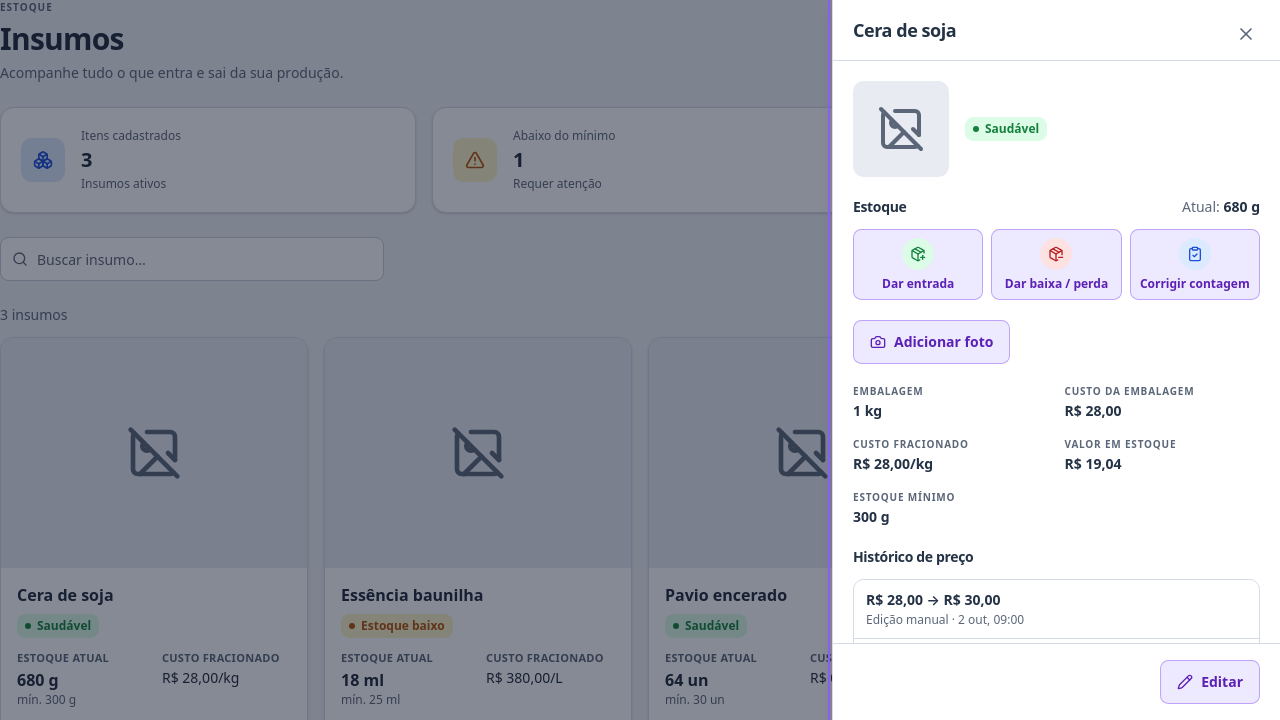
Test case: the three acts of the adjustment panel › marks the chosen one and changes the words and the fields with it
The image size is (1280, 720).
Click the button "Dar entrada" at (918, 264), box [853, 229, 983, 300]
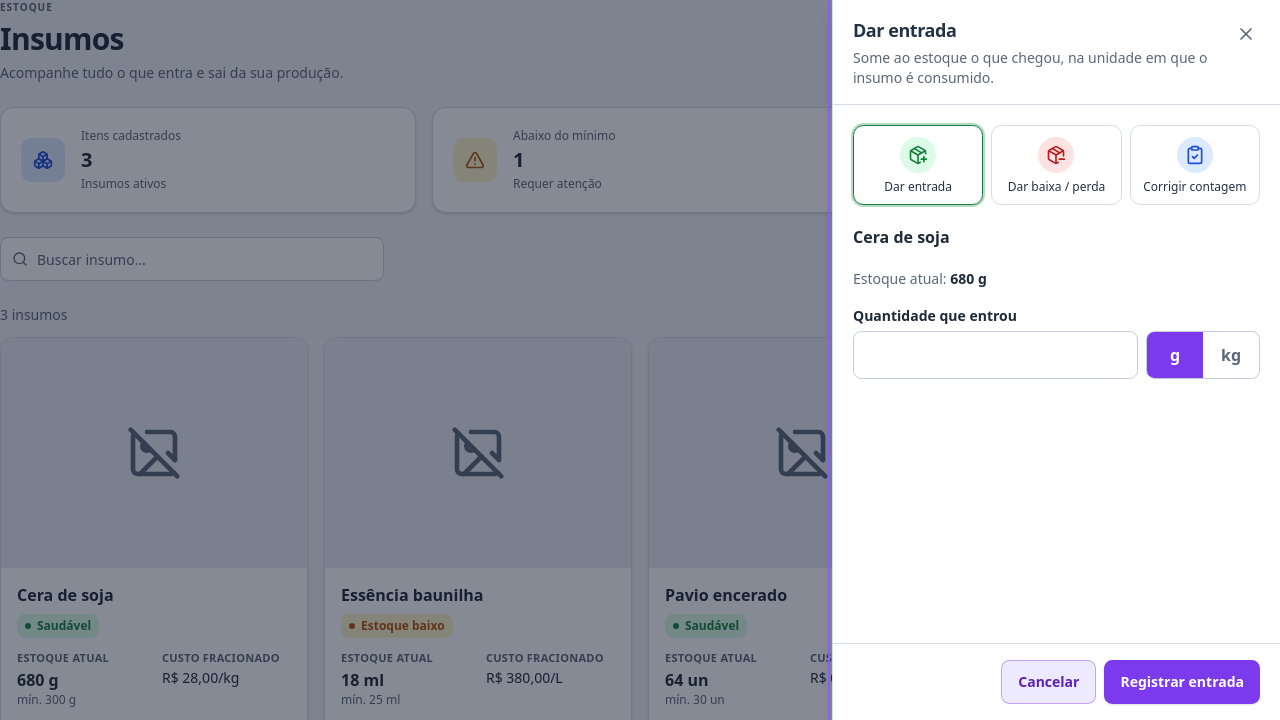
Expected: the field labelled "Motivo da baixa" is not shown
Expected: the radio button labelled "Dar entrada" is checked, [853, 125, 983, 205]
Expected: the field labelled "Quantidade que entrou" is shown, [853, 331, 1138, 379]
Click the radio button labelled "Dar baixa / perda" at (1056, 165), box [991, 125, 1122, 205]
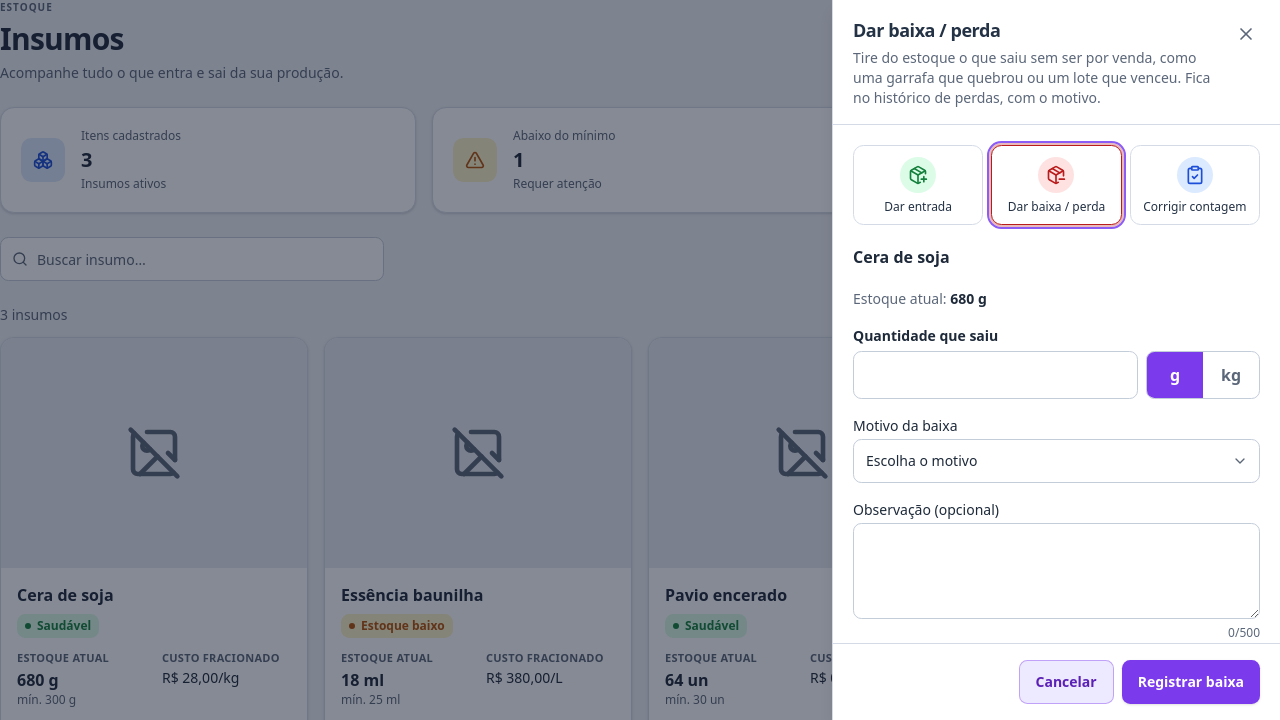
Expected: the radio button labelled "Dar baixa / perda" is checked, [991, 145, 1122, 225]
Expected: the field labelled "Quantidade que saiu" is shown, [853, 351, 1138, 399]
Expected: the radio button labelled "Dar entrada" is not checked, [853, 145, 983, 225]
Click the radio button labelled "Corrigir contagem" at (1195, 185), box [1130, 145, 1260, 225]
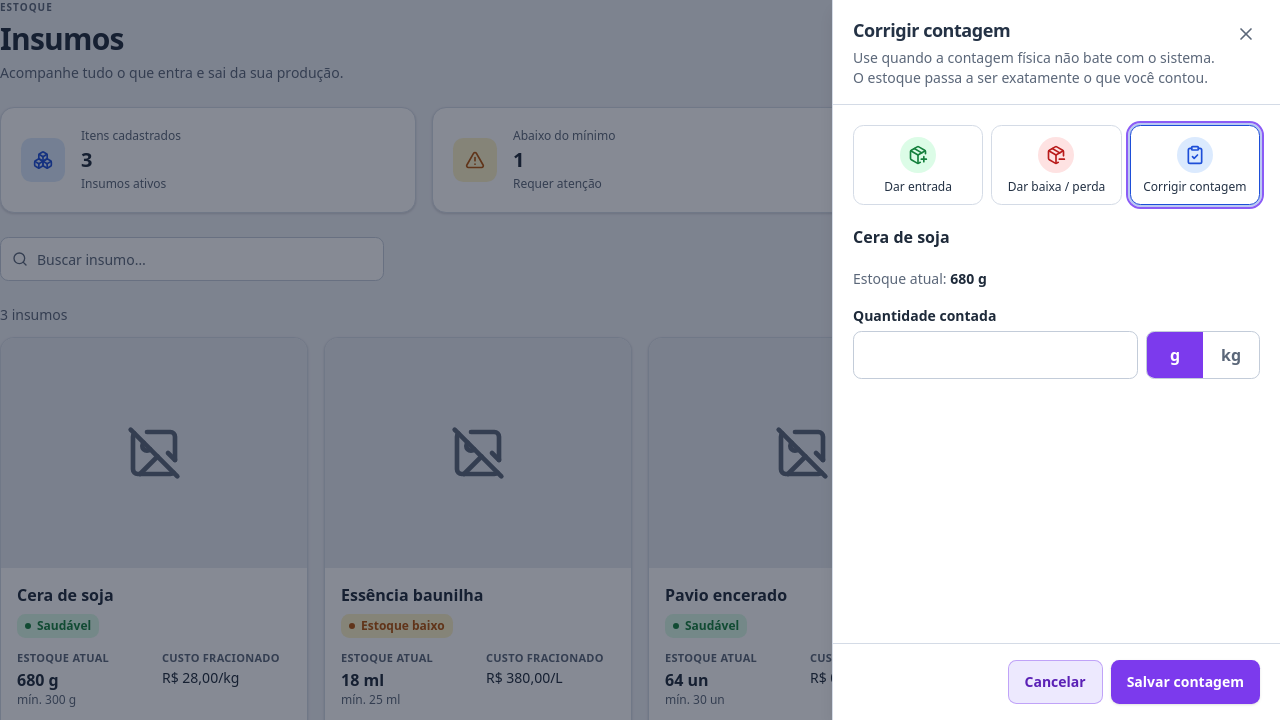
Expected: the field labelled "Quantidade contada" is shown, [853, 331, 1138, 379]
Expected: the label labelled "Motivo da baixa" is gone
